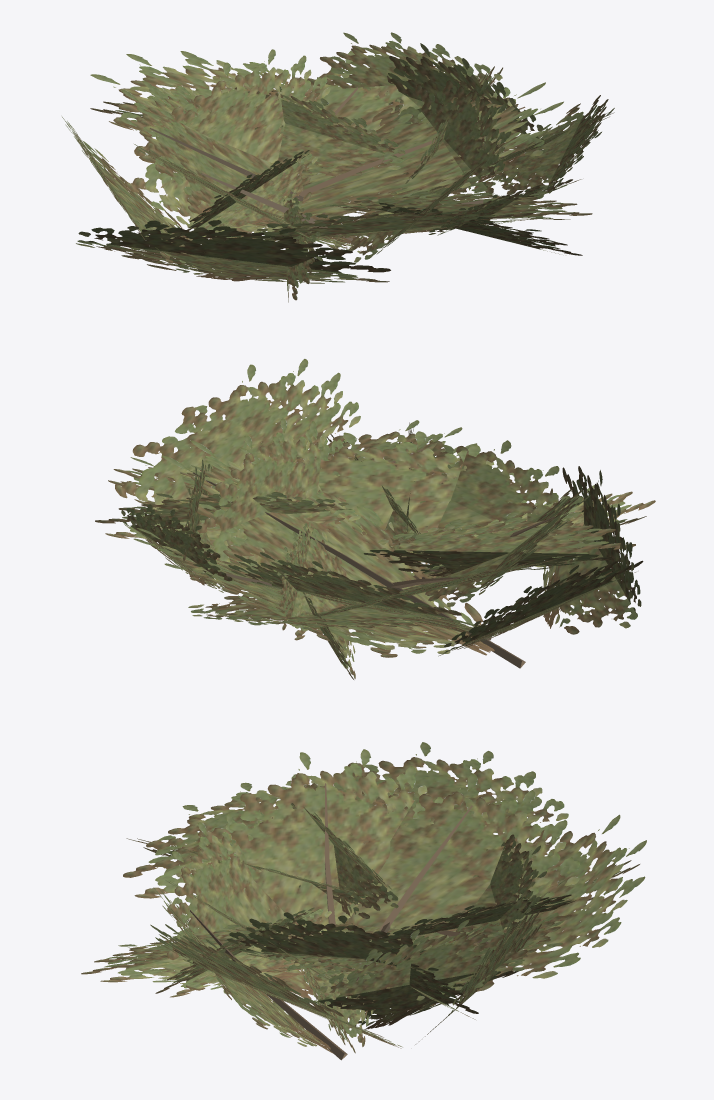
Rendered from Bush_05_Creeping.fbx.
3 renders of one model, top to bottom at view 1: azimuth 30°, elevation 25°; view 2: azimuth 150°, elevation 25°; view 3: azimuth 270°, elevation 25°, orthographic. The views are drawn at different scales.
Parts seen in each view (by area): view 1: Bush_05_Creeping.001; view 2: Bush_05_Creeping.001; view 3: Bush_05_Creeping.001.
Boxes of the visible parts, x1,y1,x2,y2 form: Bush_05_Creeping.001: (62, 32, 614, 302); Bush_05_Creeping.001: (95, 358, 655, 679); Bush_05_Creeping.001: (81, 742, 646, 1060).
Size of the model in its own units: 190 by 40.59 by 174.
